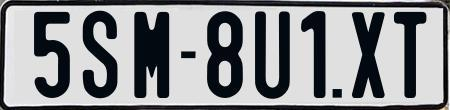1: (300, 11, 330, 102)
5: (31, 9, 69, 101)
8: (207, 9, 247, 97)
M: (132, 12, 173, 104)
S: (81, 11, 122, 98)
T: (394, 10, 428, 96)
U: (252, 8, 292, 100)
X: (351, 11, 386, 99)
